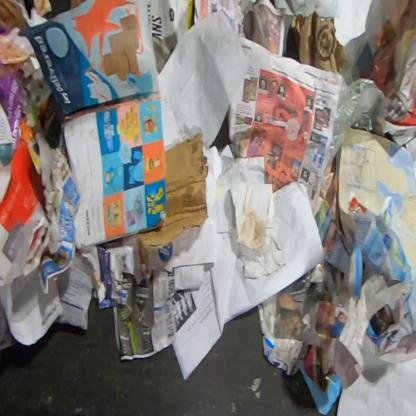cardboard: (136, 133, 208, 251), (257, 292, 305, 378), (289, 10, 348, 75)
soft_plastic: (325, 75, 391, 172)
